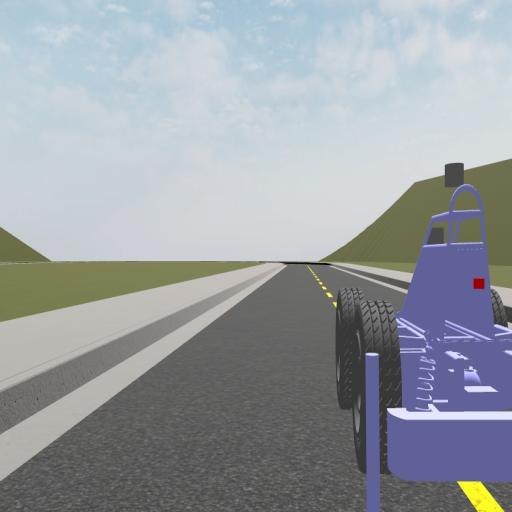ERP-42: (337, 169, 512, 491)
